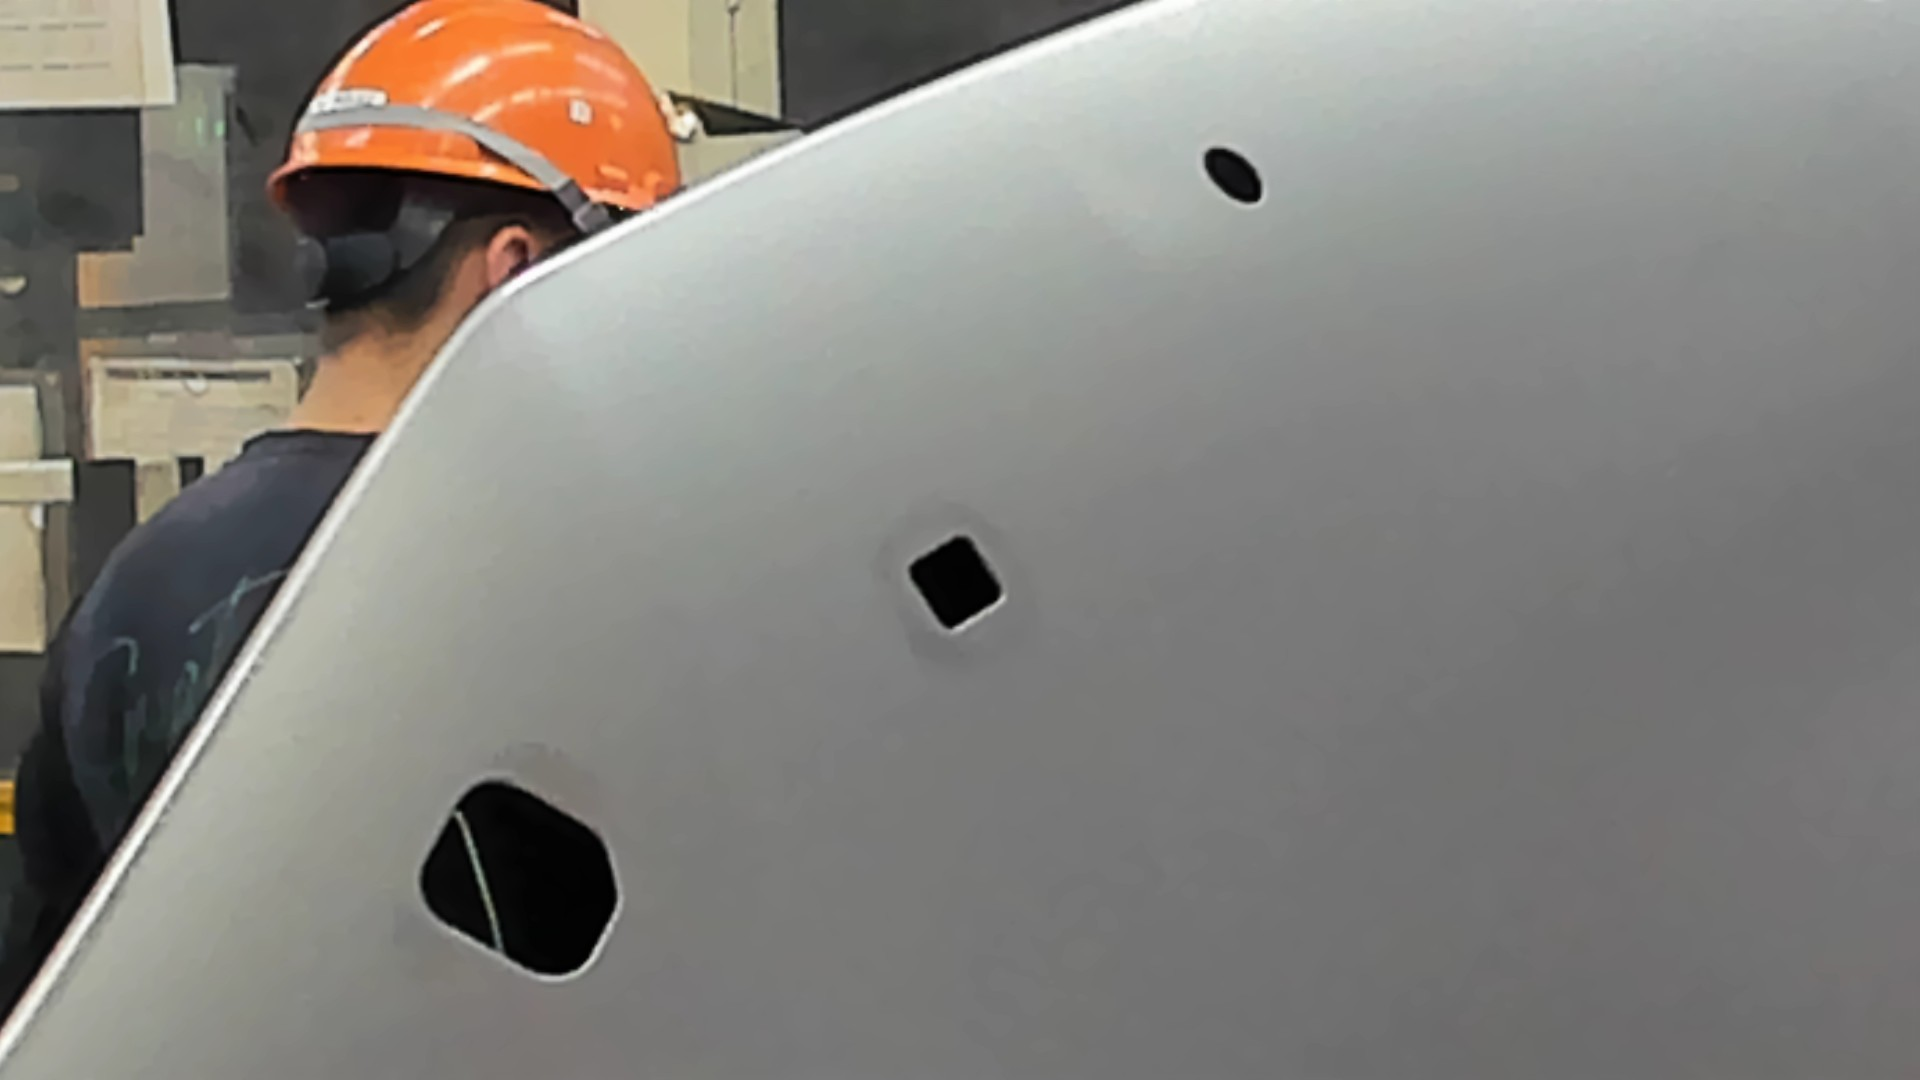Agujero: (906, 531, 1006, 633), (1203, 144, 1267, 206)
Agujerote: (415, 775, 624, 982)
